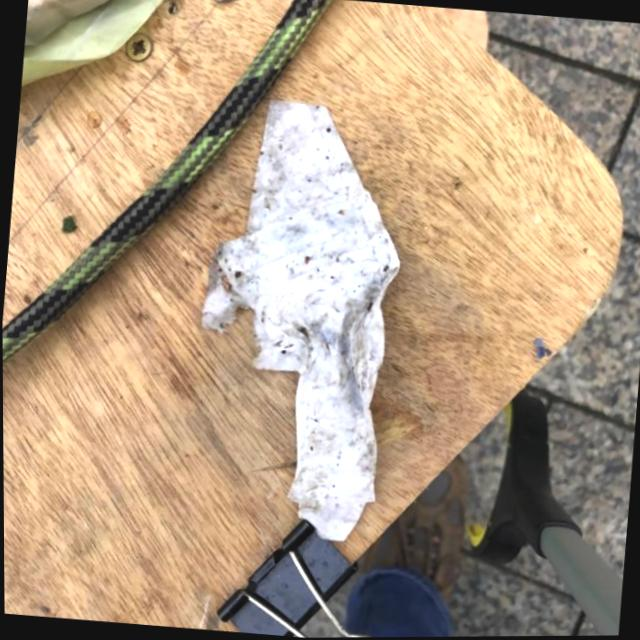Paper: (177, 87, 417, 548)
